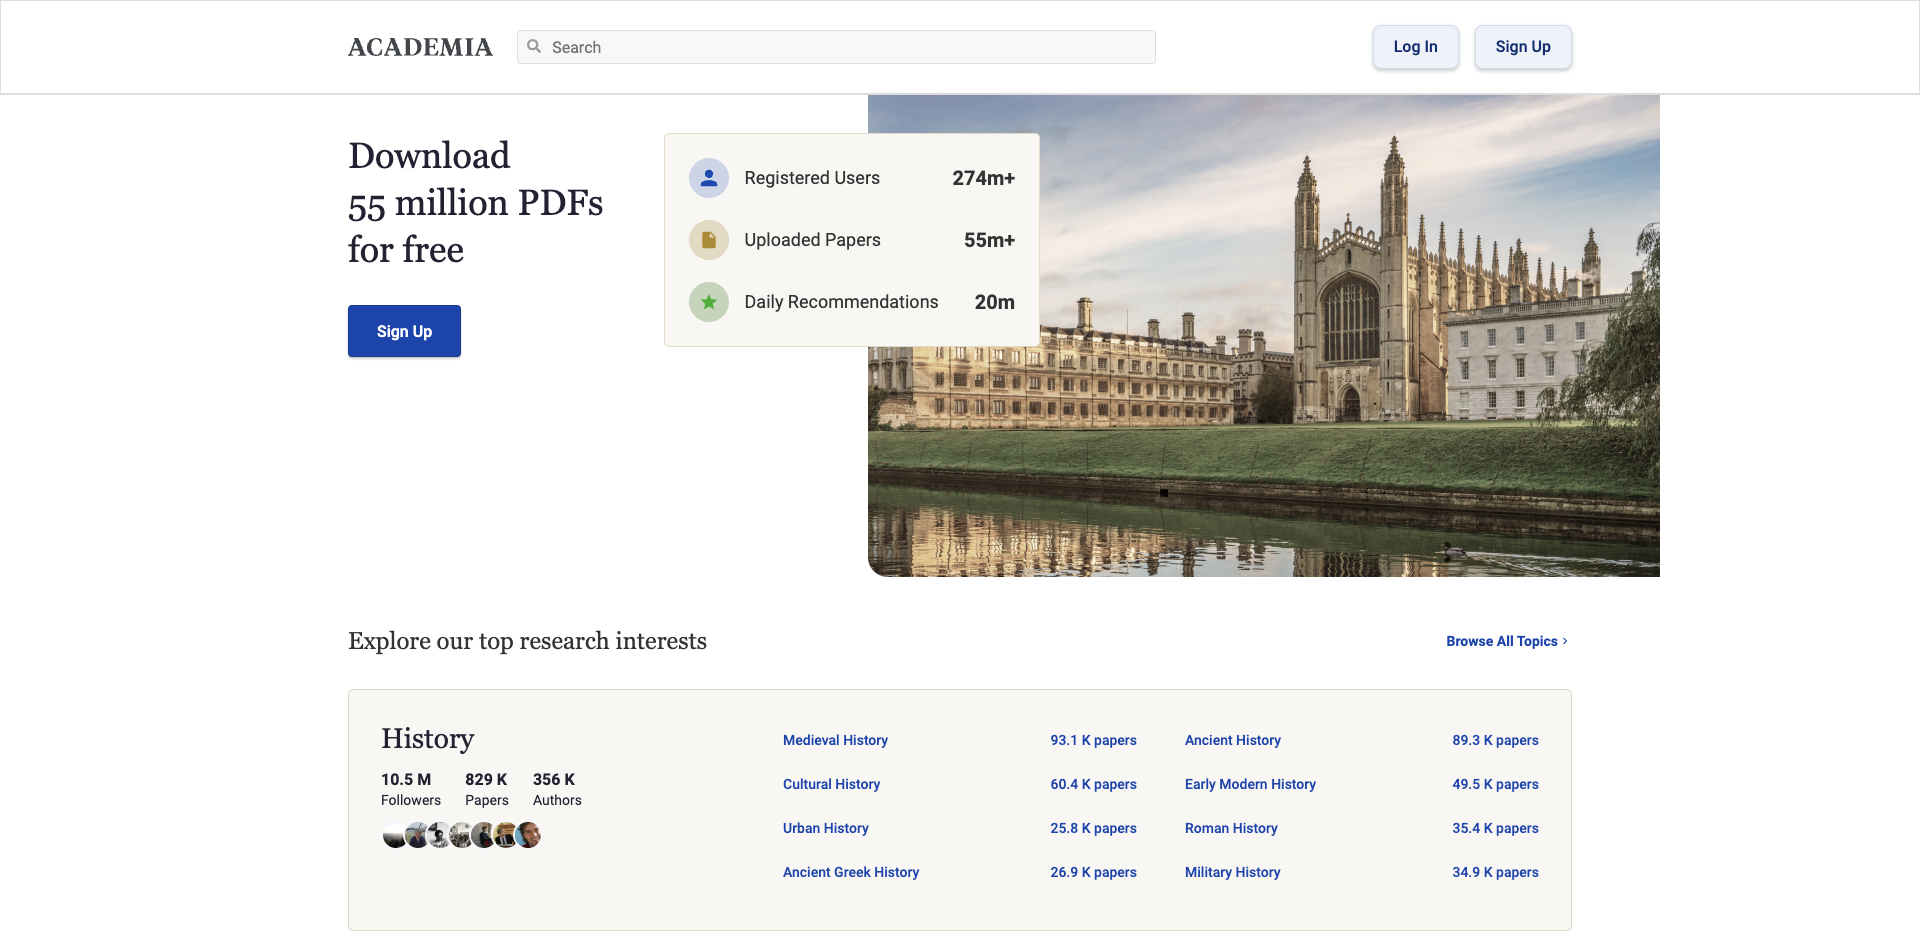button: (1, 174, 1919, 214), (1, 573, 1919, 614), (1373, 1, 1572, 93), (348, 305, 460, 358), (1474, 25, 1572, 69), (1373, 25, 1458, 69), (16, 184, 64, 203), (16, 583, 58, 604), (54, 184, 64, 200), (48, 583, 58, 599)
dropdown: (1, 214, 1919, 614), (1, 134, 1919, 174), (1, 254, 1919, 294), (1, 294, 1919, 334), (1, 374, 1919, 414), (1, 414, 1919, 455), (1, 494, 1919, 534), (1, 94, 1919, 134), (1, 214, 1919, 254), (1, 334, 1919, 374), (1, 455, 1919, 494), (1, 534, 1919, 573), (1, 93, 1919, 94), (16, 504, 28, 523), (16, 544, 28, 564)
input: (517, 29, 1156, 64)
link: (782, 730, 1138, 758), (782, 774, 1138, 803), (1185, 730, 1539, 758), (1185, 774, 1539, 803), (782, 818, 1138, 845), (782, 863, 1138, 890), (1185, 818, 1539, 845), (1185, 863, 1539, 890), (348, 36, 493, 59), (381, 722, 474, 754), (1446, 631, 1572, 651), (16, 504, 113, 523), (16, 544, 107, 564), (16, 463, 76, 484), (16, 143, 64, 163), (16, 343, 60, 364), (16, 424, 61, 444), (16, 103, 54, 124), (16, 223, 54, 244), (16, 384, 55, 403), (16, 263, 51, 283), (16, 304, 44, 323), (381, 826, 411, 842), (403, 826, 433, 842), (425, 826, 456, 842), (447, 826, 478, 842), (469, 826, 500, 842), (491, 826, 520, 842), (513, 826, 542, 842)
